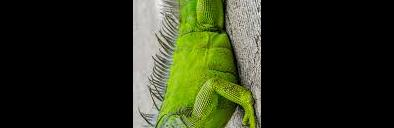Non_Gorille: (133, 0, 244, 128)
